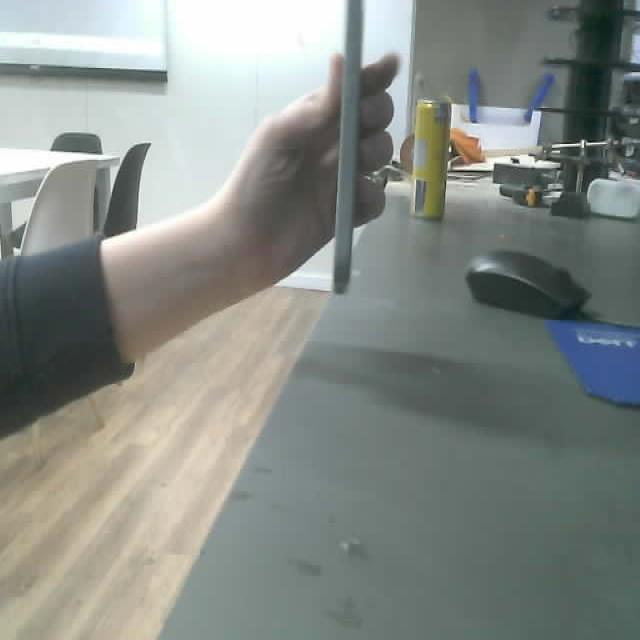phone: (331, 1, 366, 296)
